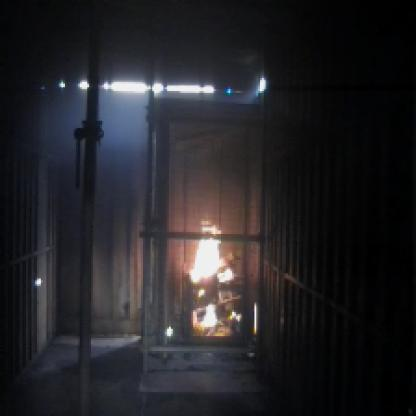Fire: (178, 215, 244, 329)
